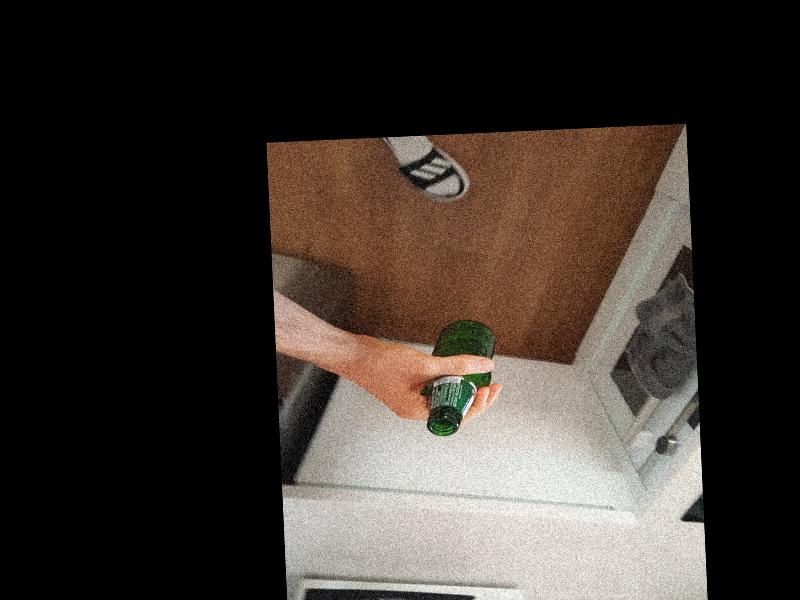Beer: (422, 318, 499, 435)
